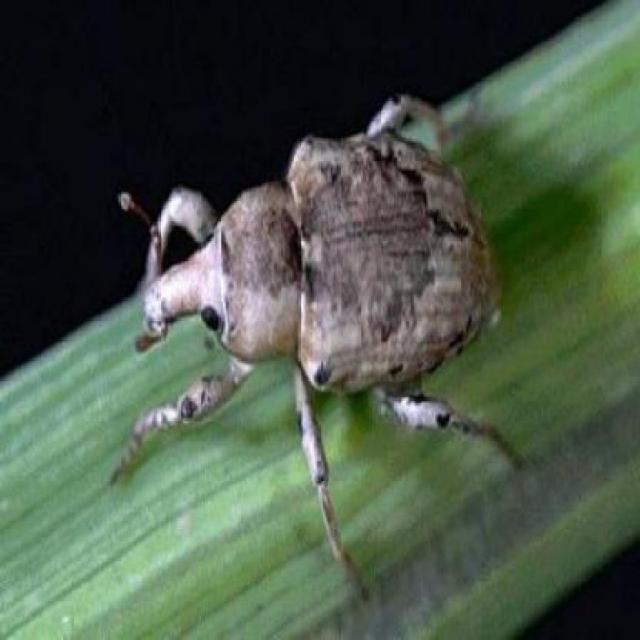rice-bug: (145, 95, 503, 434)
